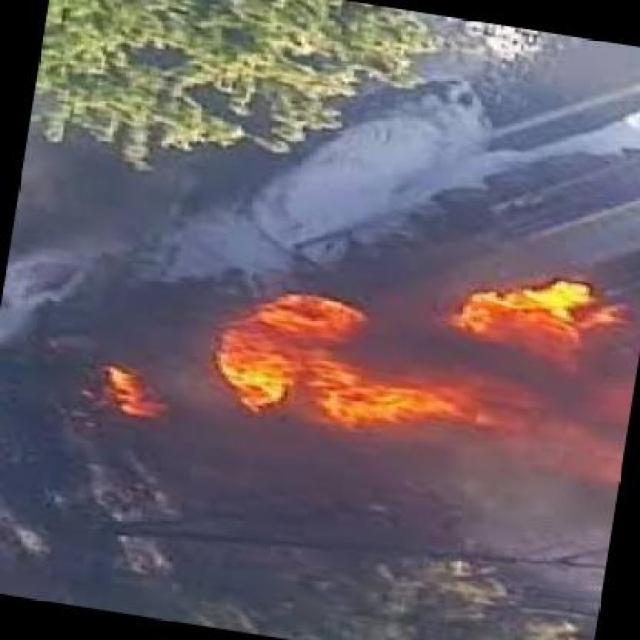Fire: (213, 294, 464, 434), (477, 376, 619, 486), (468, 277, 618, 364), (104, 370, 174, 430)
